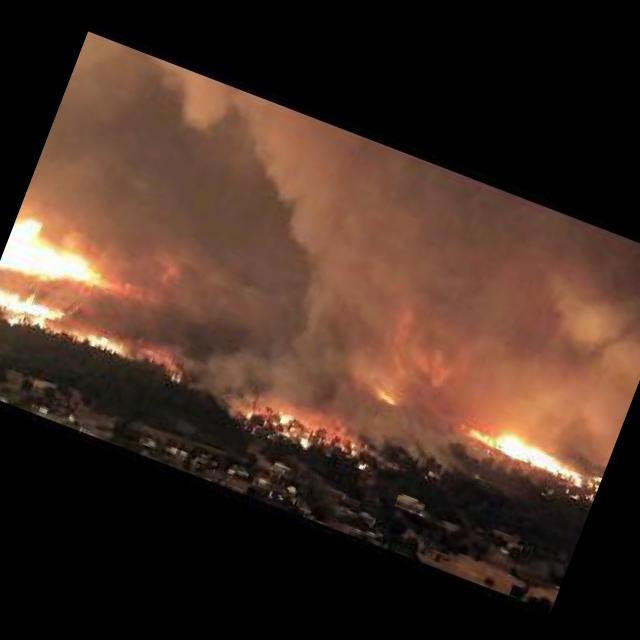fire: (0, 209, 122, 305), (466, 417, 592, 486), (0, 280, 72, 342), (84, 326, 130, 356), (588, 471, 604, 492), (278, 408, 296, 425), (378, 390, 398, 405), (297, 435, 312, 449)
